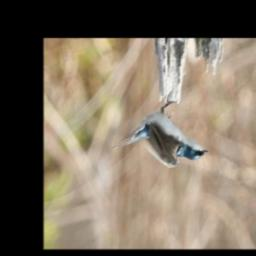Swallow: (111, 100, 209, 170)
